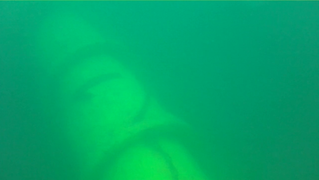1: (68, 71, 123, 104)
pipe: (28, 1, 212, 179)
